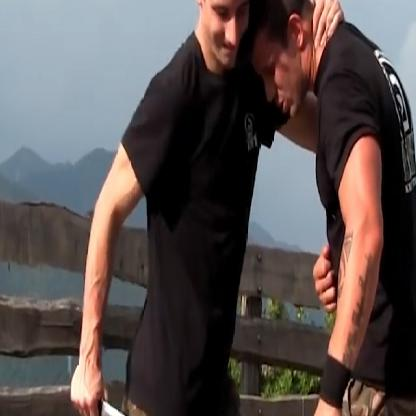knife: (68, 378, 154, 415)
